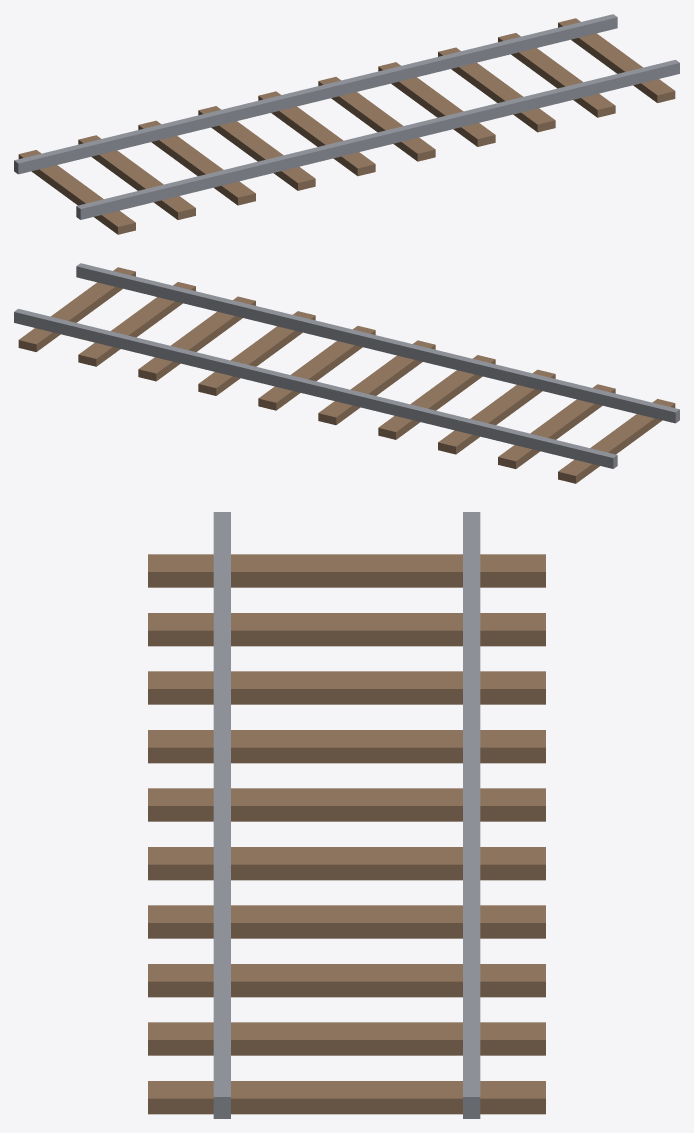
Rendered from track.glb.
The picture shows the model from 3 angles, top to bottom: view 1: azimuth 30°, elevation 25°; view 2: azimuth 150°, elevation 25°; view 3: azimuth 270°, elevation 25°; orthographic projection. The views are drawn at different scales.
Visible parts, largest first — view 1: track; view 2: track; view 3: track.
Boxes of the visible parts, x1,y1,x2,y2 form: track: (14,14,679,234); track: (14,263,679,483); track: (148,512,545,1118).
Bounding box in the file's own units: 8 × 0.24 × 2.3.
